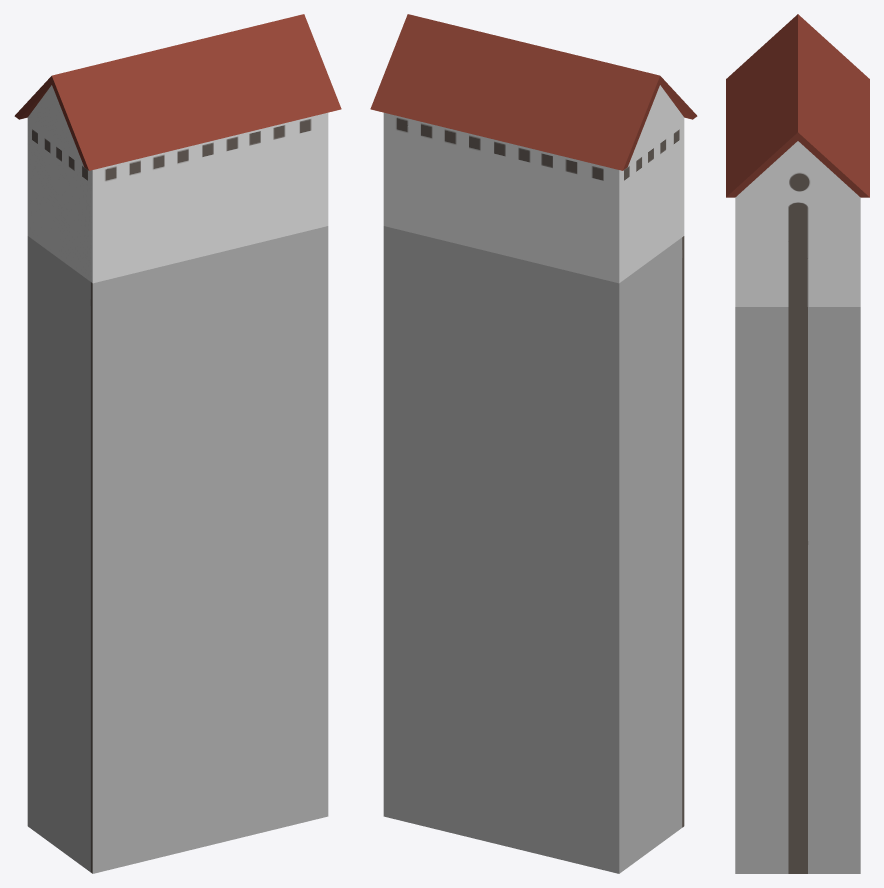
Rendered from House_1_1.fbx.
The picture shows the model from 3 angles, left to right: view 1: azimuth 30°, elevation 25°; view 2: azimuth 150°, elevation 25°; view 3: azimuth 270°, elevation 25°; orthographic projection. The views are drawn at different scales.
Visible parts, largest first — view 1: Cube; view 2: Cube; view 3: Cube.
Boxes of the visible parts, x1,y1,x2,y2 form: Cube: (14, 14, 341, 873); Cube: (370, 14, 697, 873); Cube: (726, 14, 869, 873).
Size of the model in its own units: 447 by 1315 by 230.
